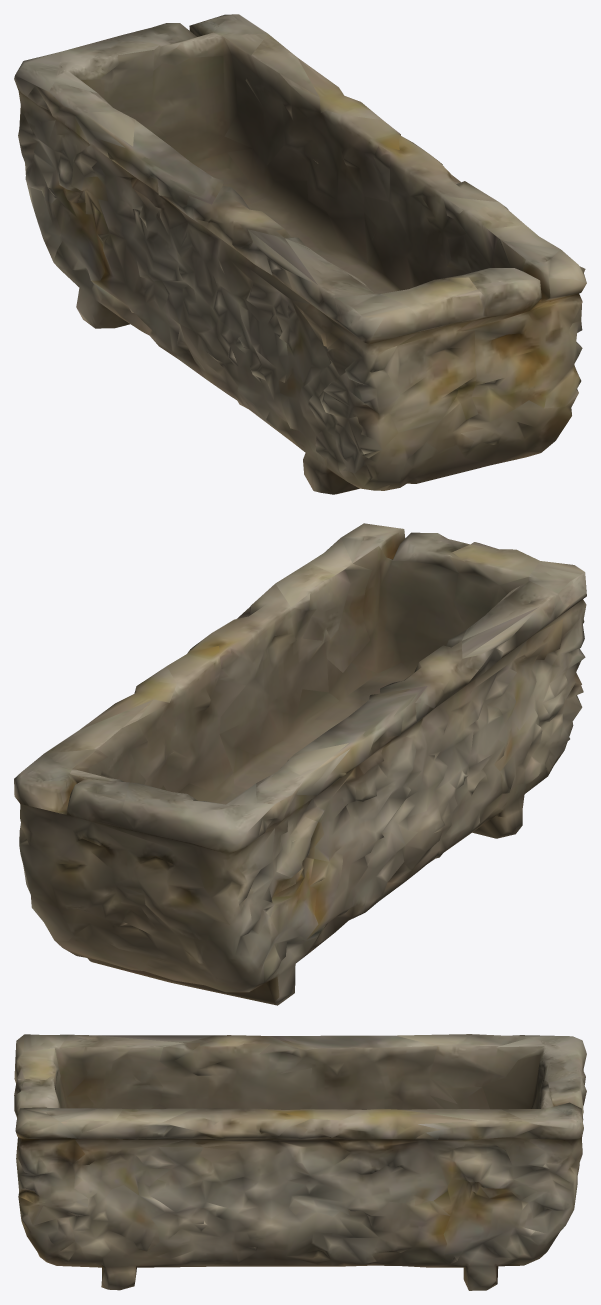
File: caravan-trough.glb
The picture shows the model from 3 angles, top to bottom: view 1: azimuth 30°, elevation 25°; view 2: azimuth 150°, elevation 25°; view 3: azimuth 270°, elevation 25°; orthographic projection. The views are drawn at different scales.
Visible parts, largest first — view 1: tripo_node_c1c822a3-4c30-4c40-81ef-6df90b5677a1; view 2: tripo_node_c1c822a3-4c30-4c40-81ef-6df90b5677a1; view 3: tripo_node_c1c822a3-4c30-4c40-81ef-6df90b5677a1.
Part boxes in pixels (bbox=[...]): tripo_node_c1c822a3-4c30-4c40-81ef-6df90b5677a1: bbox=[14, 14, 586, 494]; tripo_node_c1c822a3-4c30-4c40-81ef-6df90b5677a1: bbox=[14, 523, 586, 1005]; tripo_node_c1c822a3-4c30-4c40-81ef-6df90b5677a1: bbox=[14, 1034, 586, 1290].
Size of the model in its own units: 0.9014 by 0.8 by 2.34.
1 material, 1 textured.
